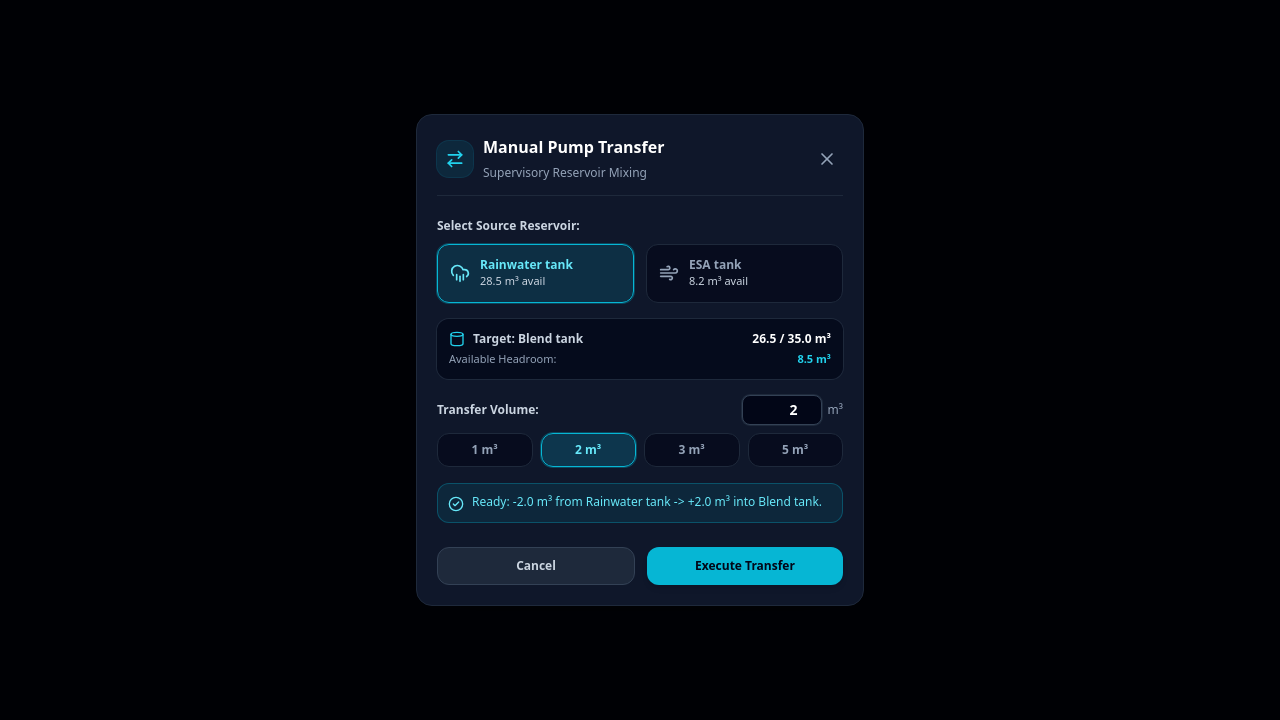
Scenario: Supervisory Controls Components › PumpTransferModal › rejects an empty or zero transfer volume
Clear the number field labelled "Transfer Volume:": (782, 410) [742,395,822,425]
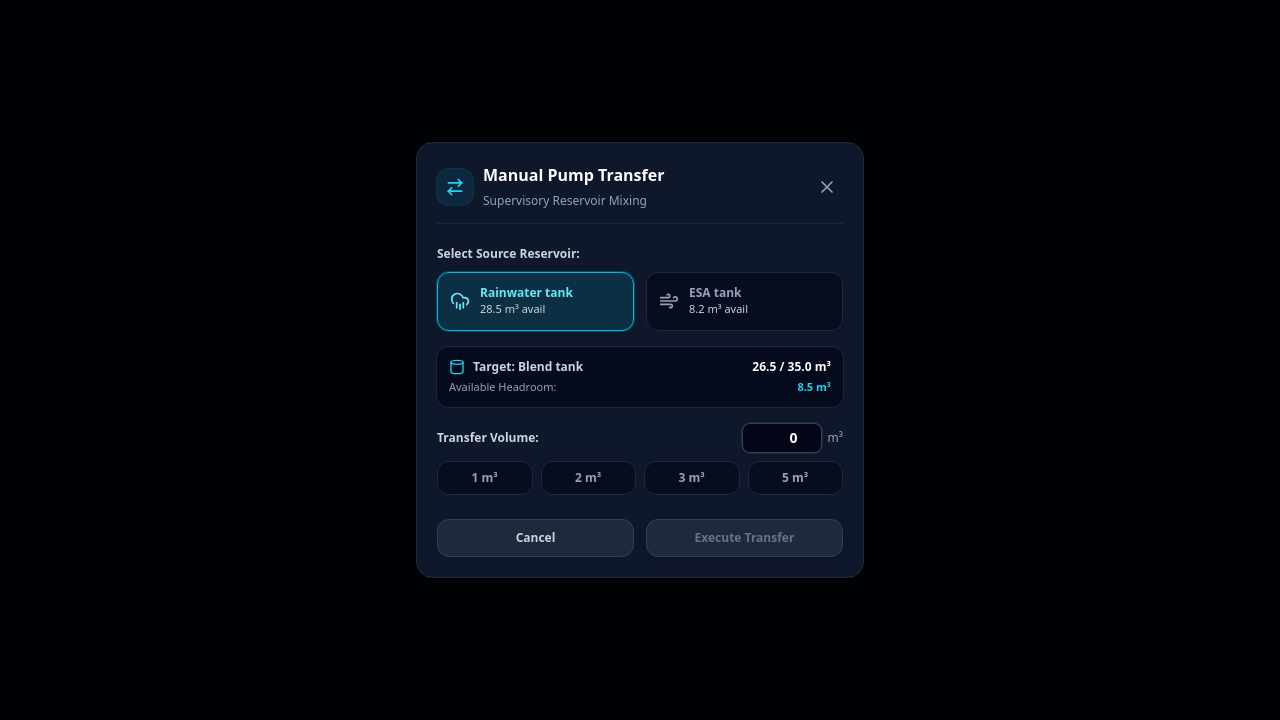
Expected: the button "Execute Transfer" is disabled, [646,519,843,557]
